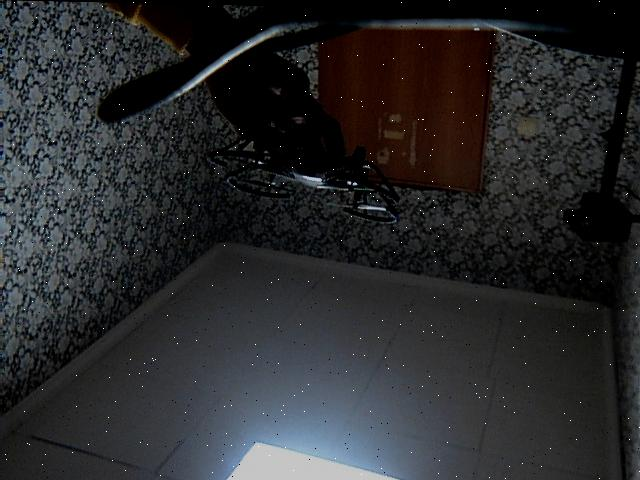drone: (205, 119, 417, 242)
